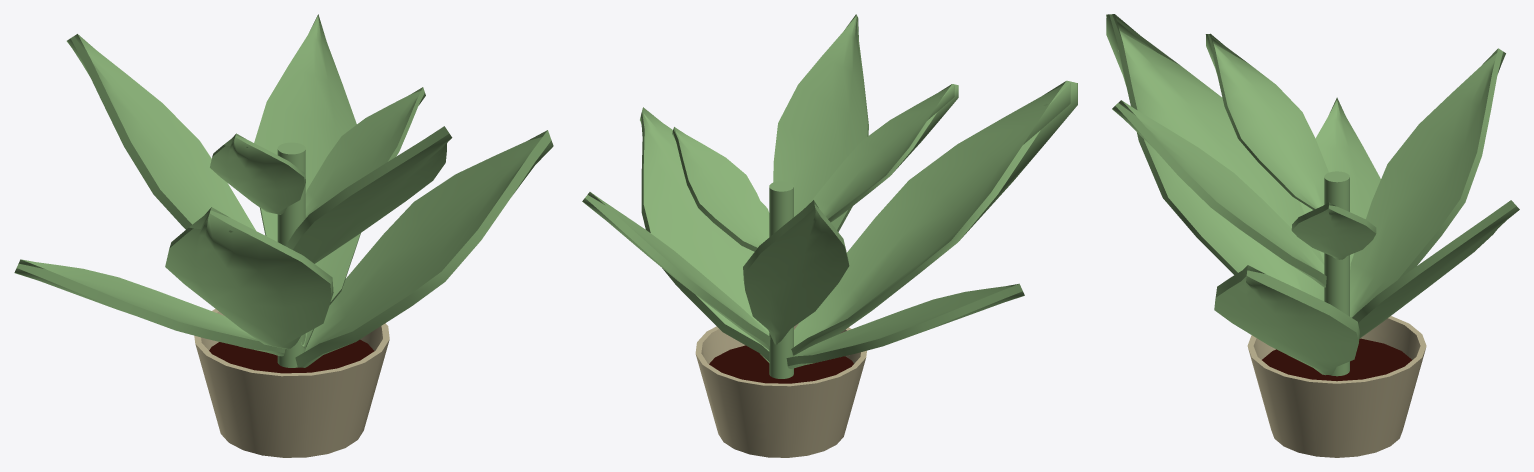
File: Plant.fbx
3 renders of one model, left to right at view 1: azimuth 30°, elevation 25°; view 2: azimuth 150°, elevation 25°; view 3: azimuth 270°, elevation 25°, orthographic. The views are drawn at different scales.
Parts seen in each view (by area): view 1: pasted__group2_pasted__pasted__pCube1; view 2: pasted__group2_pasted__pasted__pCube1; view 3: pasted__group2_pasted__pasted__pCube1.
Part boxes in pixels (<box>): pasted__group2_pasted__pasted__pCube1: <box>14,14,553,457</box>; pasted__group2_pasted__pasted__pCube1: <box>582,14,1077,457</box>; pasted__group2_pasted__pasted__pCube1: <box>1106,14,1519,457</box>.
Size of the model in its own units: 7.79 by 5.79 by 6.29.
